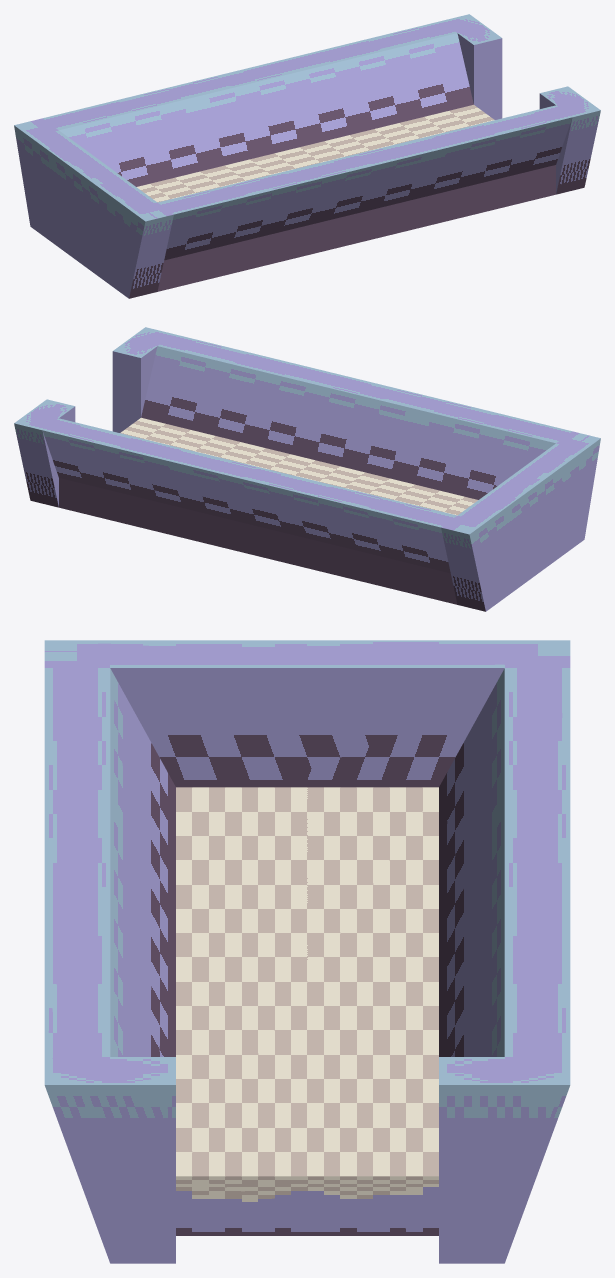
File: litiere.gltf
3 renders of one model, top to bottom at view 1: azimuth 30°, elevation 25°; view 2: azimuth 150°, elevation 25°; view 3: azimuth 270°, elevation 25°, orthographic. The views are drawn at different scales.
Size of the model in its own units: 4 by 0.75 by 2.
Materials: 1 (1 with a texture image).
